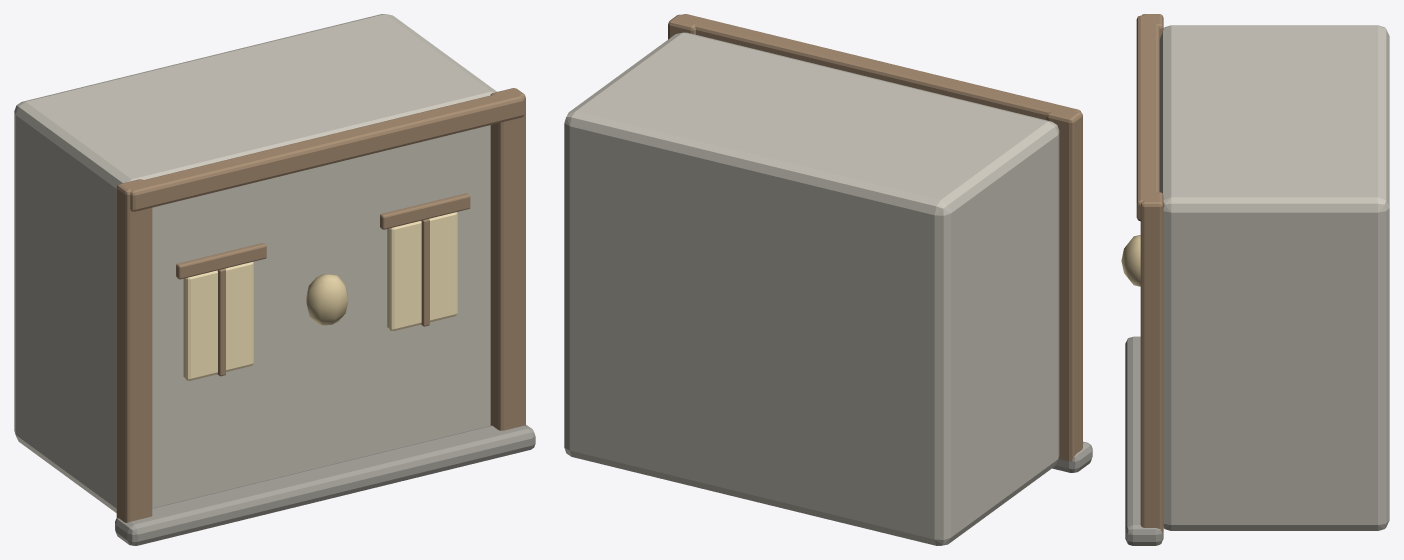
Rendered from home_floor.glb.
3 renders of one model, left to right at view 1: azimuth 30°, elevation 25°; view 2: azimuth 150°, elevation 25°; view 3: azimuth 270°, elevation 25°, orthographic. The views are drawn at different scales.
Visible parts, largest first — view 1: home_floor_Palette, home_floor_Glow; view 2: home_floor_Palette; view 3: home_floor_Palette.
Boxes of the visible parts, bbox=[...] form: home_floor_Palette: bbox=[14, 14, 535, 545]; home_floor_Glow: bbox=[183, 212, 457, 380]; home_floor_Palette: bbox=[564, 14, 1092, 545]; home_floor_Palette: bbox=[1121, 14, 1389, 545].
Bounding box in the file's own units: 1.2 × 0.99 × 0.7.
